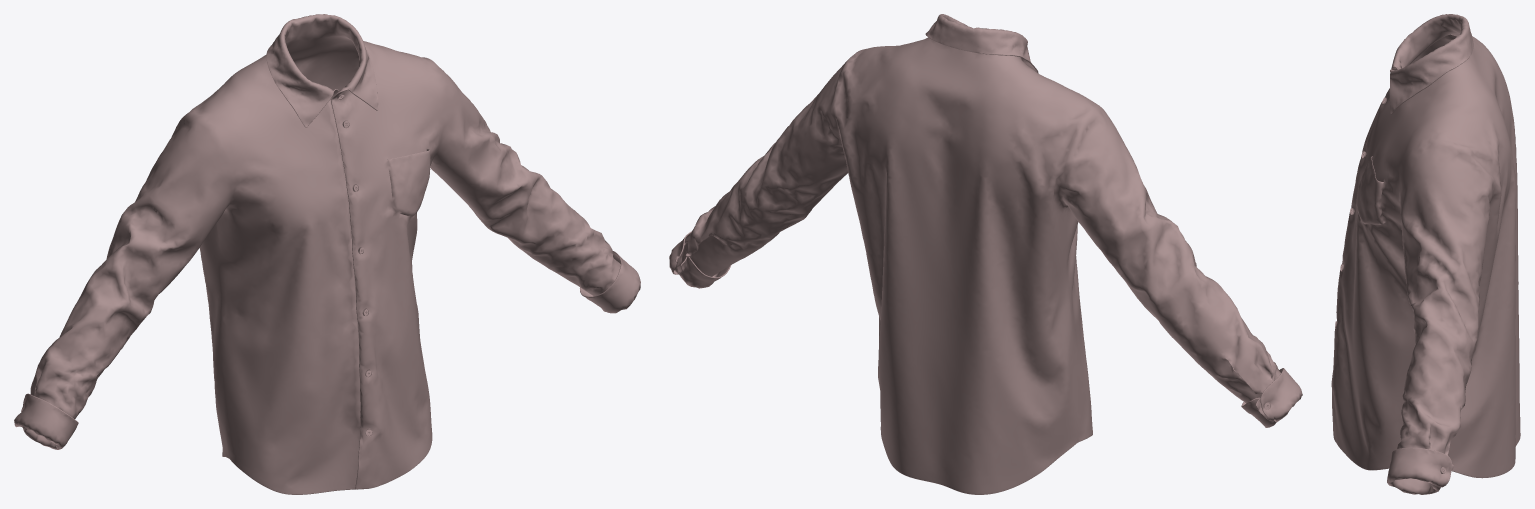
File: 1761673086862-lugaFata.glb
3 renders of one model, left to right at view 1: azimuth 30°, elevation 25°; view 2: azimuth 150°, elevation 25°; view 3: azimuth 270°, elevation 25°, orthographic. The views are drawn at different scales.
Visible parts, largest first — view 1: Shirt_OBJobjcleanermaterialmergergles; view 2: Shirt_OBJobjcleanermaterialmergergles; view 3: Shirt_OBJobjcleanermaterialmergergles.
Part boxes in pixels (bbox=[...]): Shirt_OBJobjcleanermaterialmergergles: bbox=[14, 14, 640, 494]; Shirt_OBJobjcleanermaterialmergergles: bbox=[669, 14, 1302, 494]; Shirt_OBJobjcleanermaterialmergergles: bbox=[1331, 14, 1520, 494].
Bounding box in the file's own units: 11.47 × 7.77 × 3.12.
9 materials, 2 textured.
